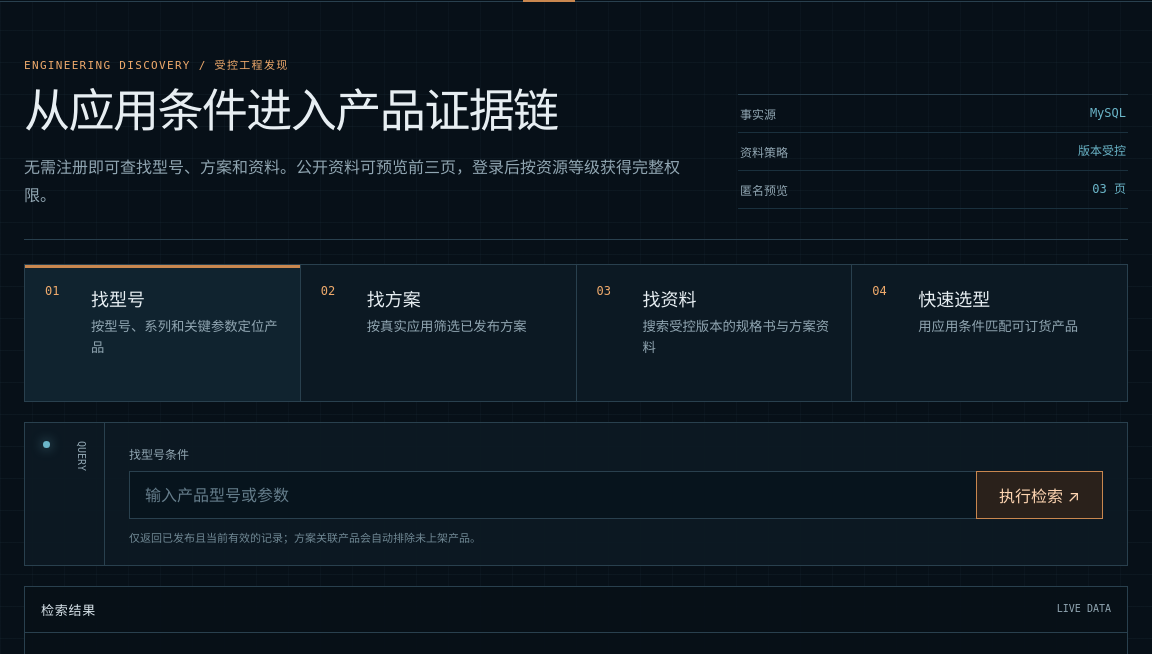
Test: App › 空数据库展示明确空状态
Click the button "执行检索 ↗" at (1040, 495), box top-left (976, 471), bottom-right (1103, 519)
(page scrolled)
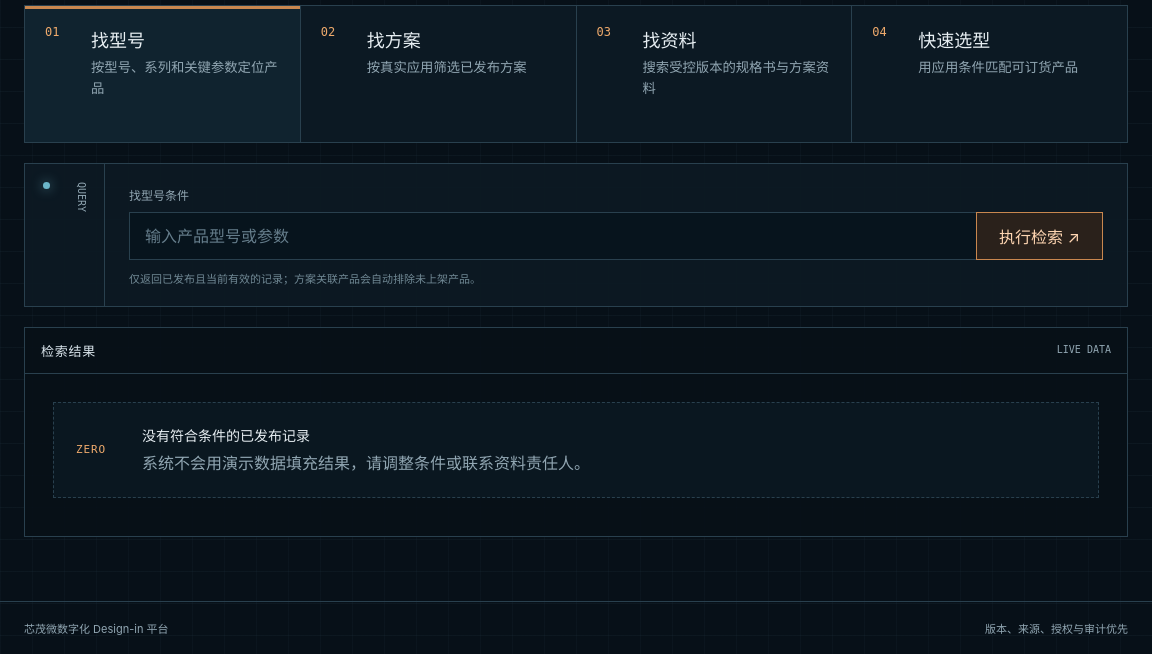
Check: the text "没有符合条件的已发布记录" is shown, box top-left (142, 427), bottom-right (310, 444)
